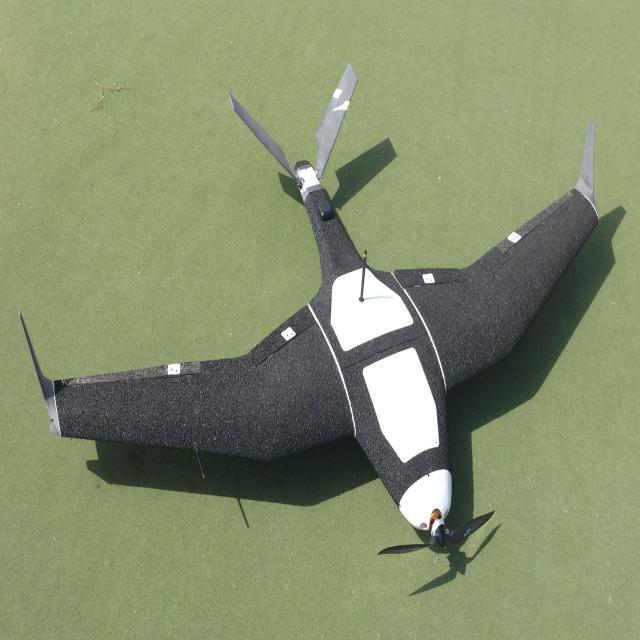iha: (12, 55, 612, 555)
